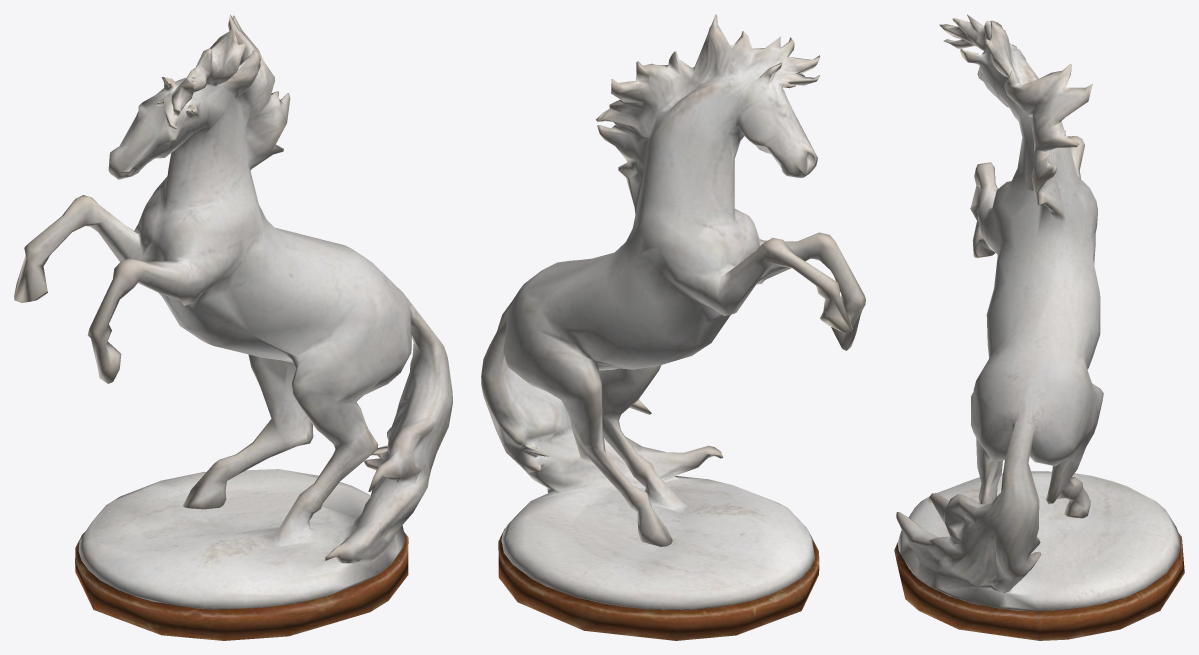
Rendered from horse_statue_01.glb.
3 views of the same model, side by side, from view 1: azimuth 30°, elevation 25°; view 2: azimuth 150°, elevation 25°; view 3: azimuth 270°, elevation 25° (orthographic). The views are drawn at different scales.
Visible parts, largest first — view 1: horse_statue_01; view 2: horse_statue_01; view 3: horse_statue_01.
Boxes of the visible parts, x1,y1,x2,y2 form: horse_statue_01: (14,14,452,640); horse_statue_01: (481,14,865,640); horse_statue_01: (894,14,1184,640).
Bounding box in the file's own units: 0.1635 × 0.22 × 0.1078.
Materials: 1 (1 with a texture image).
